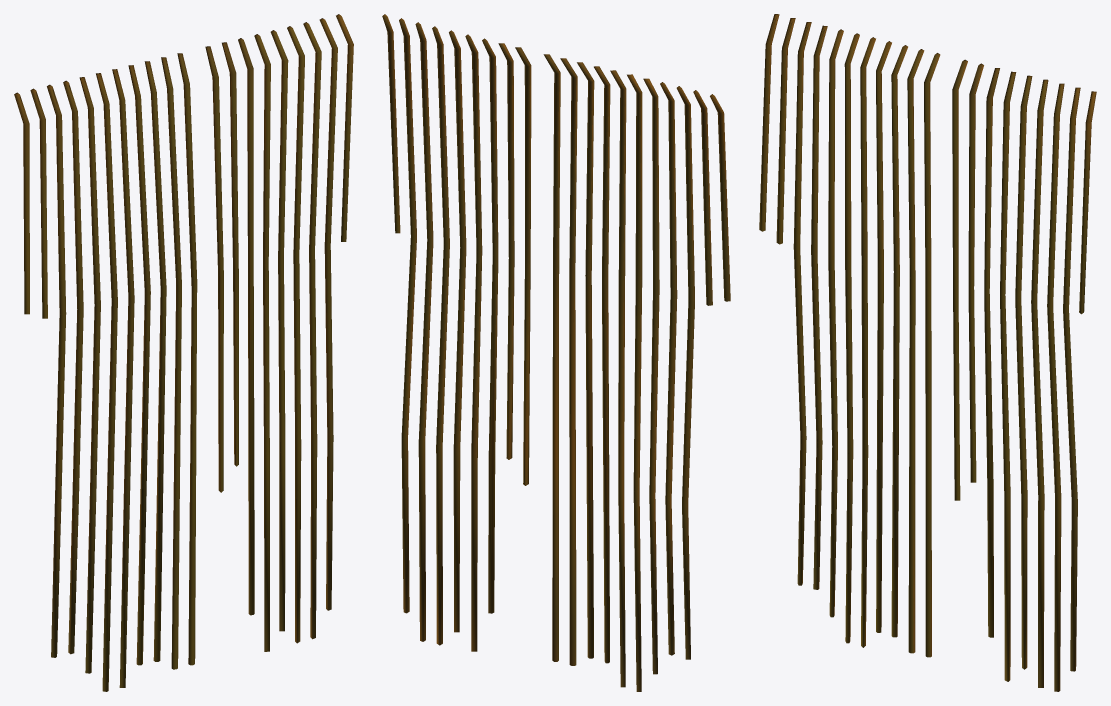
Rendered from Liana.fbx.
3 views of the same model, side by side, from view 1: azimuth 30°, elevation 25°; view 2: azimuth 150°, elevation 25°; view 3: azimuth 330°, elevation 25° (orthographic). The views are drawn at different scales.
Visible parts, largest first — view 1: Liana_LOD0; view 2: Liana_LOD0; view 3: Liana_LOD0.
Boxes of the visible parts, x1,y1,x2,y2 form: Liana_LOD0: (14, 14, 353, 691); Liana_LOD0: (382, 14, 730, 691); Liana_LOD0: (759, 14, 1096, 691).
Size of what is drawn, in the model's own units: 167 by 293 by 13.58.
1 material, 1 textured.
